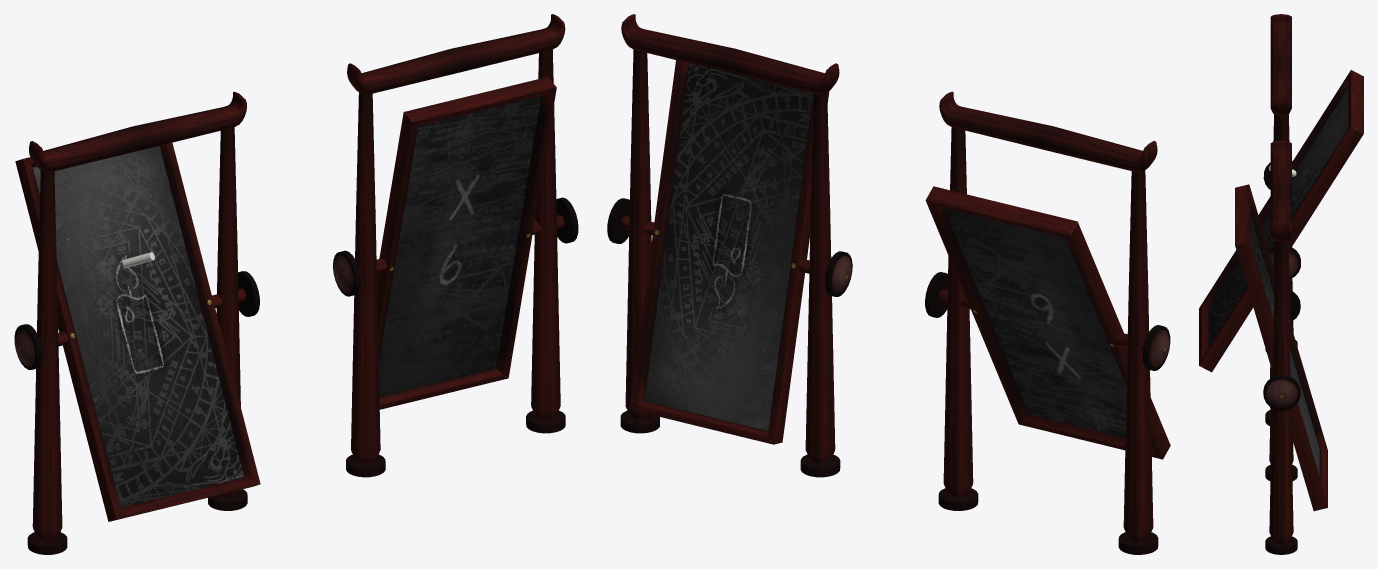
The picture shows the model from 3 angles, left to right: view 1: azimuth 30°, elevation 25°; view 2: azimuth 150°, elevation 25°; view 3: azimuth 270°, elevation 25°; orthographic projection. The views are drawn at different scales.
Visible parts, largest first — view 1: Chalkboard1 (×2), Frame (×2), Post_L (×2), Post_R (×2), Post_TOP (×2), Handle_L (×2), Handle_R (×2); view 2: Chalkboard1 (×2), Frame (×2), Post_L (×2), Post_R (×2), Post_TOP (×2), Handle_L (×2), Handle_R (×2); view 3: Frame (×2), Post_R (×2), Chalkboard1 (×2), Post_TOP (×2), Handle_R (×2), Post_L, Handle_L.
Part boxes in pixels (left/top/right/bottom): Chalkboard1 (×2): left=33, top=96, right=540, bottom=507; Frame (×2): left=15, top=77, right=556, bottom=521; Post_L (×2): left=27, top=92, right=385, bottom=554; Post_R (×2): left=208, top=49, right=565, bottom=510; Post_TOP (×2): left=29, top=14, right=565, bottom=171; Handle_L (×2): left=14, top=250, right=386, bottom=369; Handle_R (×2): left=212, top=197, right=578, bottom=316; Chalkboard1 (×2): left=644, top=63, right=1126, bottom=437; Frame (×2): left=629, top=60, right=1170, bottom=459; Post_L (×2): left=800, top=92, right=1158, bottom=554; Post_R (×2): left=620, top=49, right=978, bottom=510; Post_TOP (×2): left=621, top=14, right=1157, bottom=171; Handle_L (×2): left=798, top=251, right=1170, bottom=370; Handle_R (×2): left=607, top=198, right=970, bottom=317; Frame (×2): left=1199, top=70, right=1363, bottom=511; Post_R (×2): left=1265, top=114, right=1297, bottom=554; Chalkboard1 (×2): left=1209, top=88, right=1348, bottom=476; Post_TOP (×2): left=1270, top=14, right=1291, bottom=242; Handle_R (×2): left=1263, top=246, right=1300, bottom=410; Post_L: left=1265, top=241, right=1297, bottom=480; Handle_L: left=1290, top=290, right=1300, bottom=321.
Bounding box in the file's own units: 4.87 × 3.41 × 1.54.
2 materials, 2 textured.
